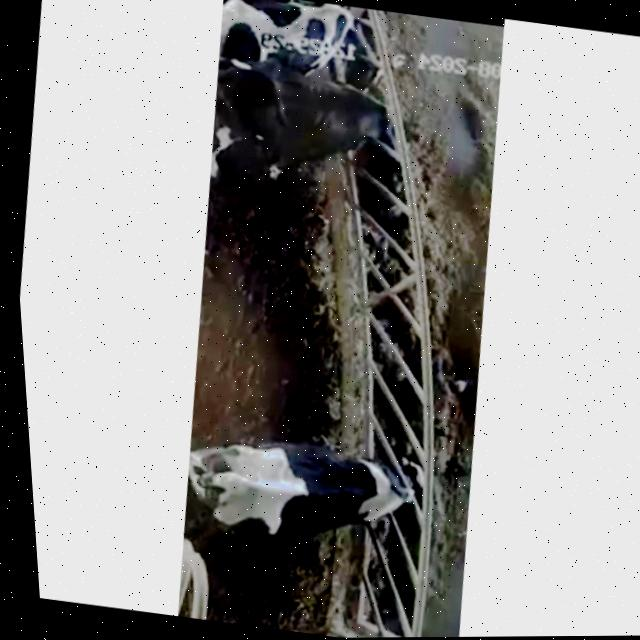eat: (257, 72, 473, 197), (308, 408, 482, 546)
